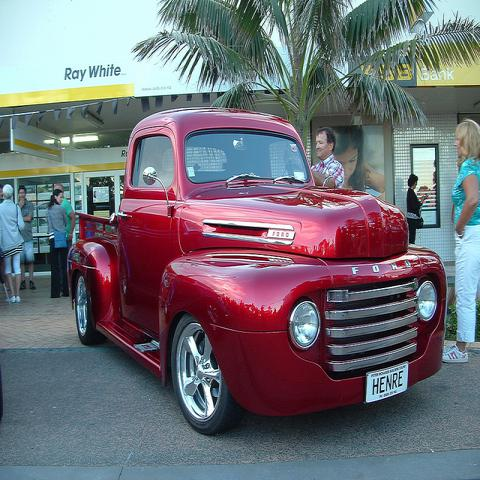truck: (66, 107, 448, 435)
